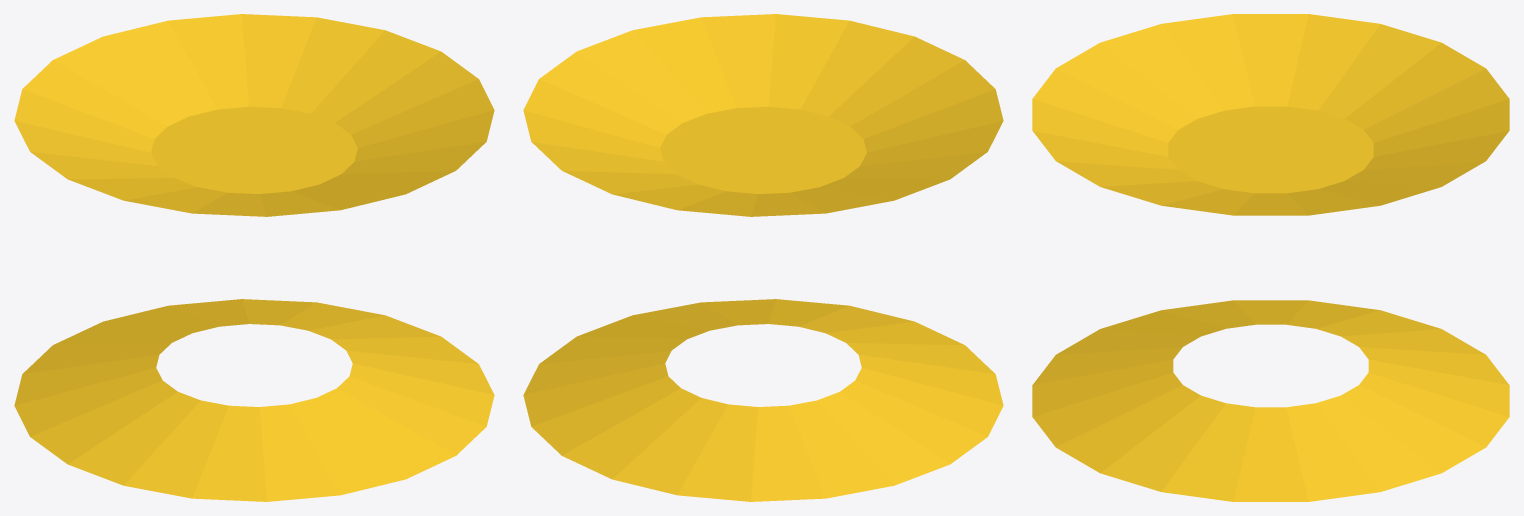
Rendered from left_hubcap_mesh.dae.
The picture shows the model from 3 angles, left to right: view 1: azimuth 30°, elevation 25°; view 2: azimuth 150°, elevation 25°; view 3: azimuth 270°, elevation 25°; orthographic projection.
Visible parts, largest first — view 1: p3at_back_left_hub; view 2: p3at_back_left_hub; view 3: p3at_back_left_hub.
Part boxes in pixels (x1,y1,x2,y2): p3at_back_left_hub: (14,14,494,501); p3at_back_left_hub: (523,14,1003,501); p3at_back_left_hub: (1032,14,1509,501).
Size of the model in its own units: 0.1076 by 0.0712 by 0.1076.
